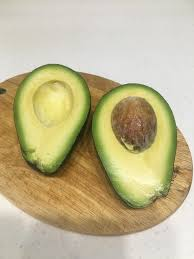avocado: (93, 83, 177, 209), (14, 63, 89, 173)
